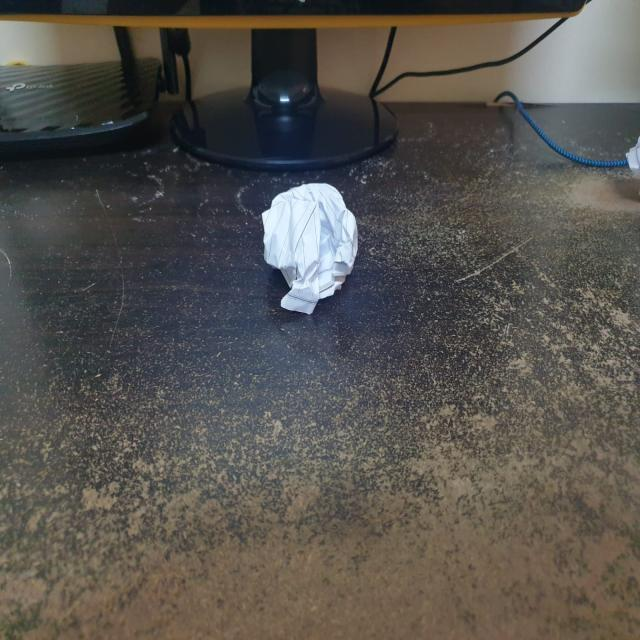Paper: (261, 185, 356, 315)
